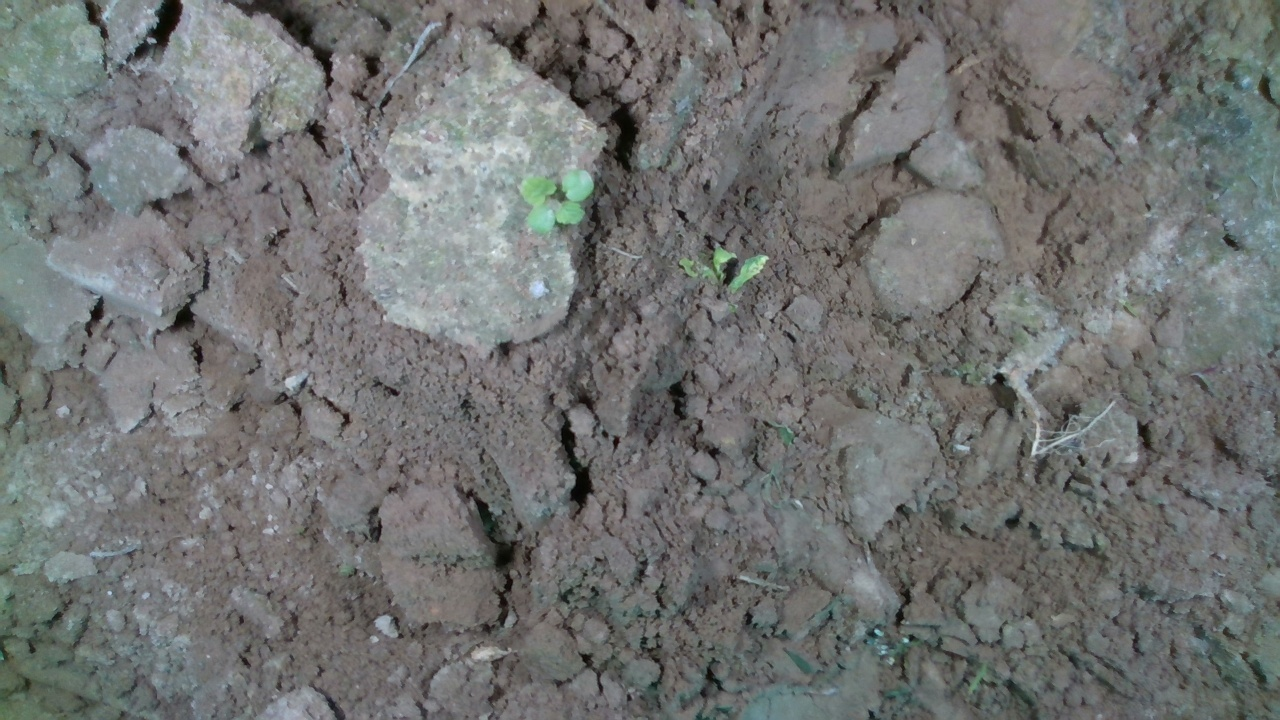weed: (518, 168, 592, 236)
